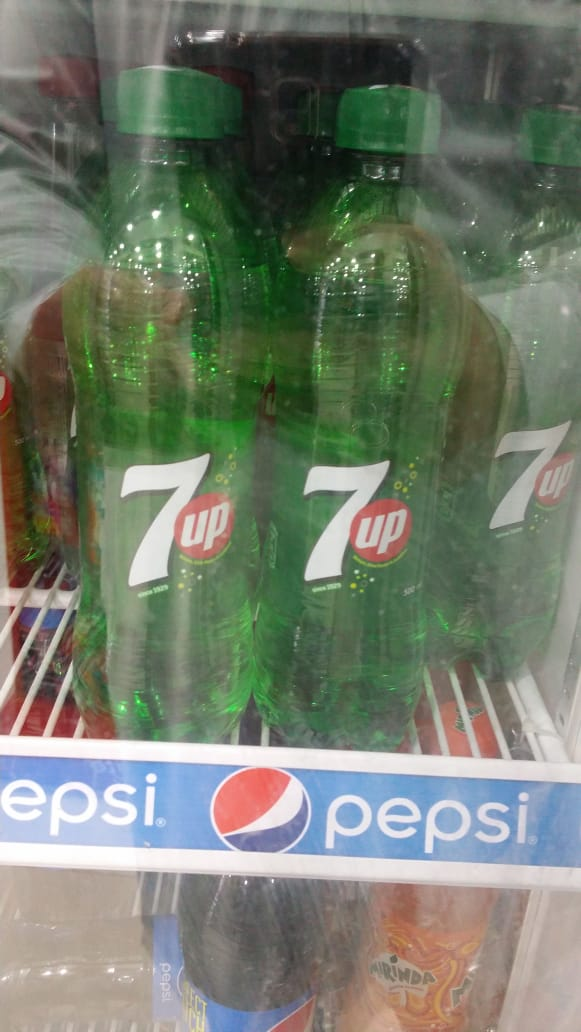7up: (114, 450, 234, 595), (298, 454, 413, 588), (486, 422, 575, 537)
mirinda: (369, 956, 436, 988)
pepsi: (202, 763, 312, 860)
